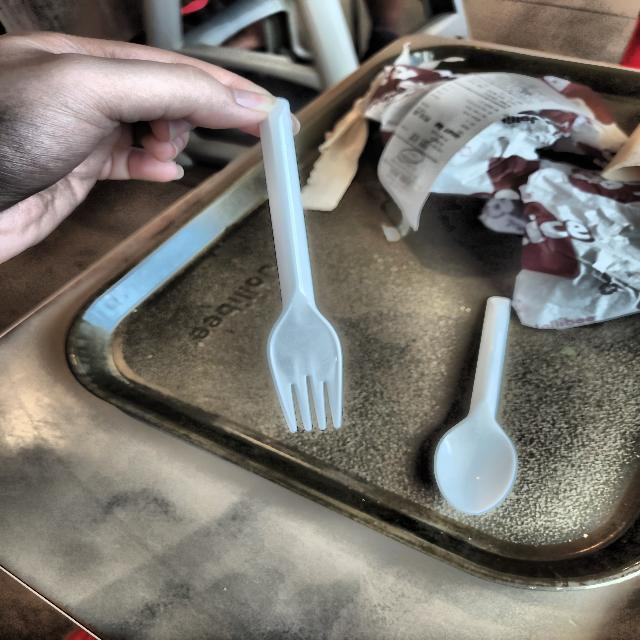plastic utensil: (260, 99, 342, 431), (435, 296, 518, 514)
